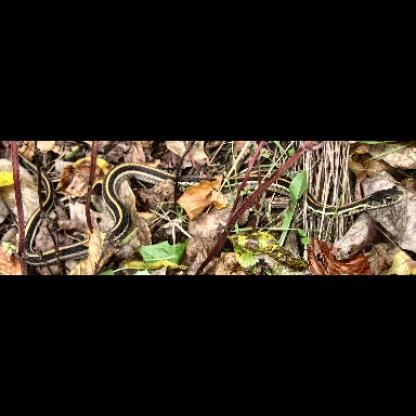Snake: (12, 151, 403, 269)
